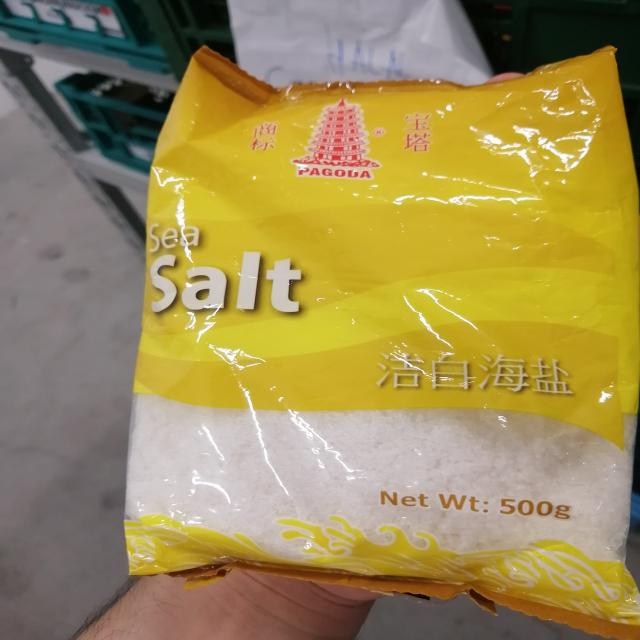object_name: (159, 81, 627, 599)
